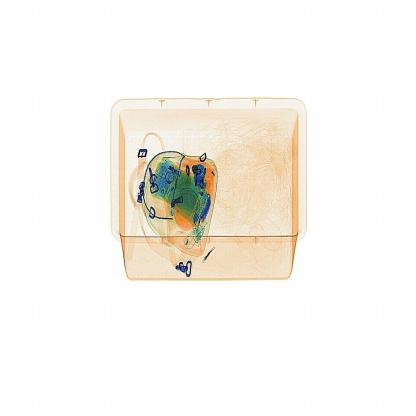wrench: (202, 243, 219, 267)
